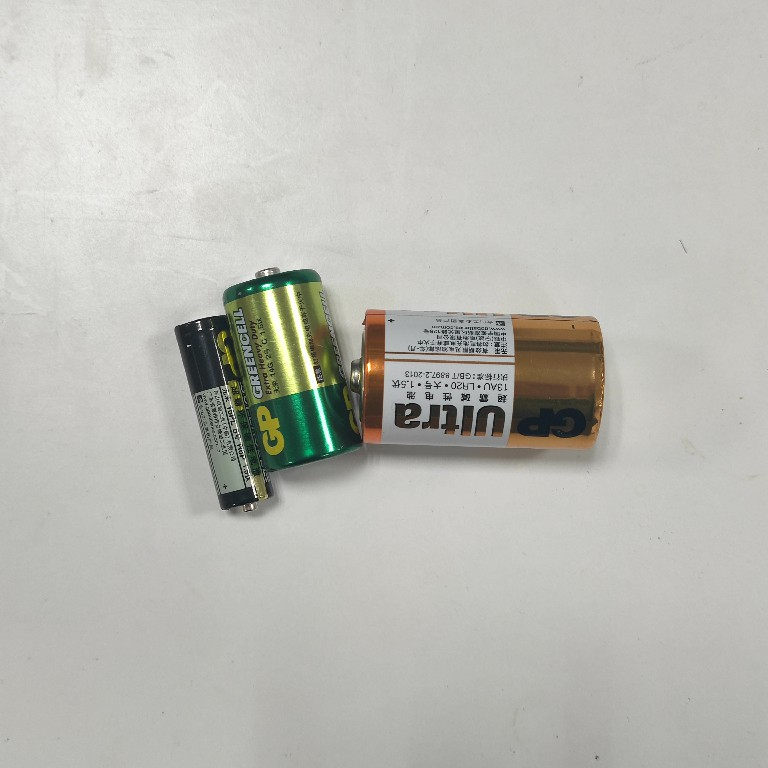charge: (346, 305, 608, 456), (220, 264, 368, 475), (170, 312, 279, 519)
